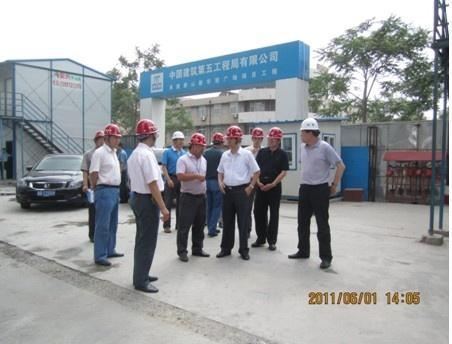Helmet: (135, 118, 159, 145), (299, 118, 320, 146), (103, 123, 122, 148), (189, 133, 207, 155)
